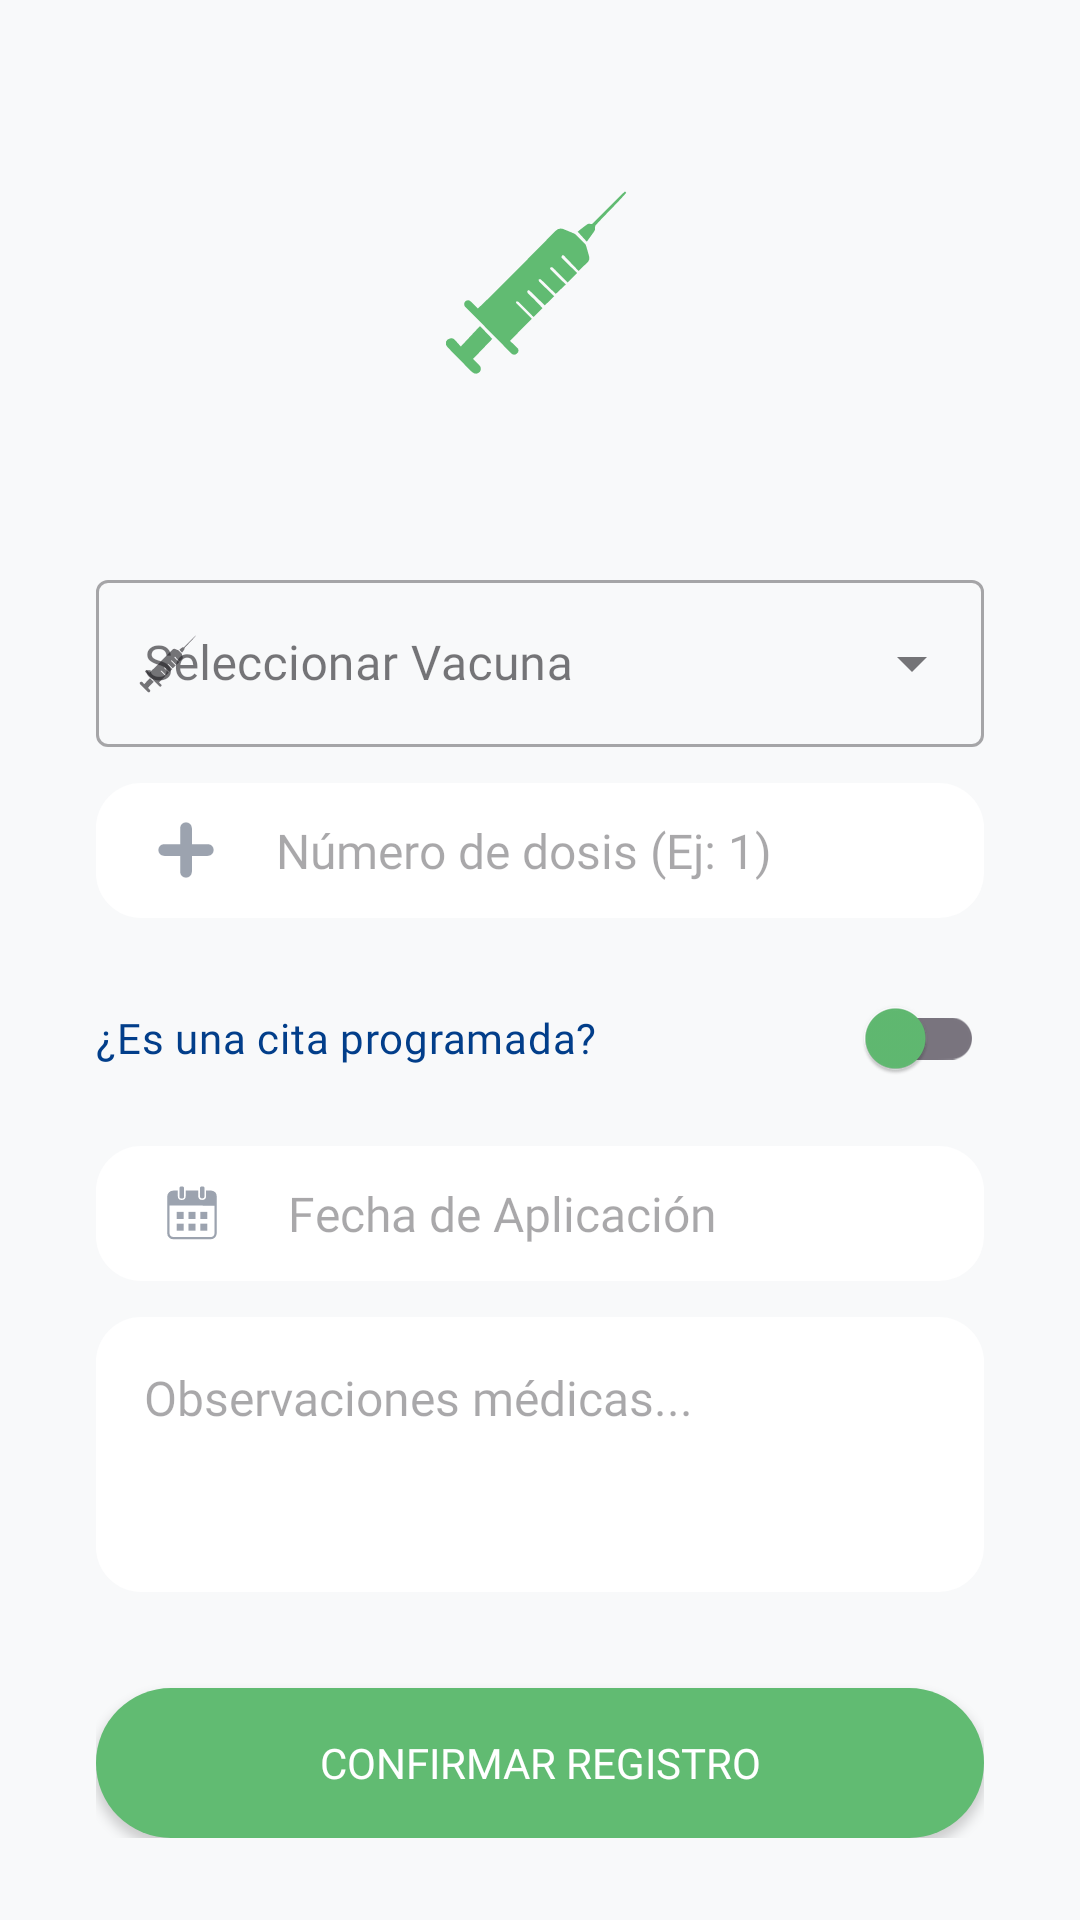

Named icons in this screenshot (1080 x 1920) and their centers, (x=x, y=y):
vaccine: (x=536, y=282)
